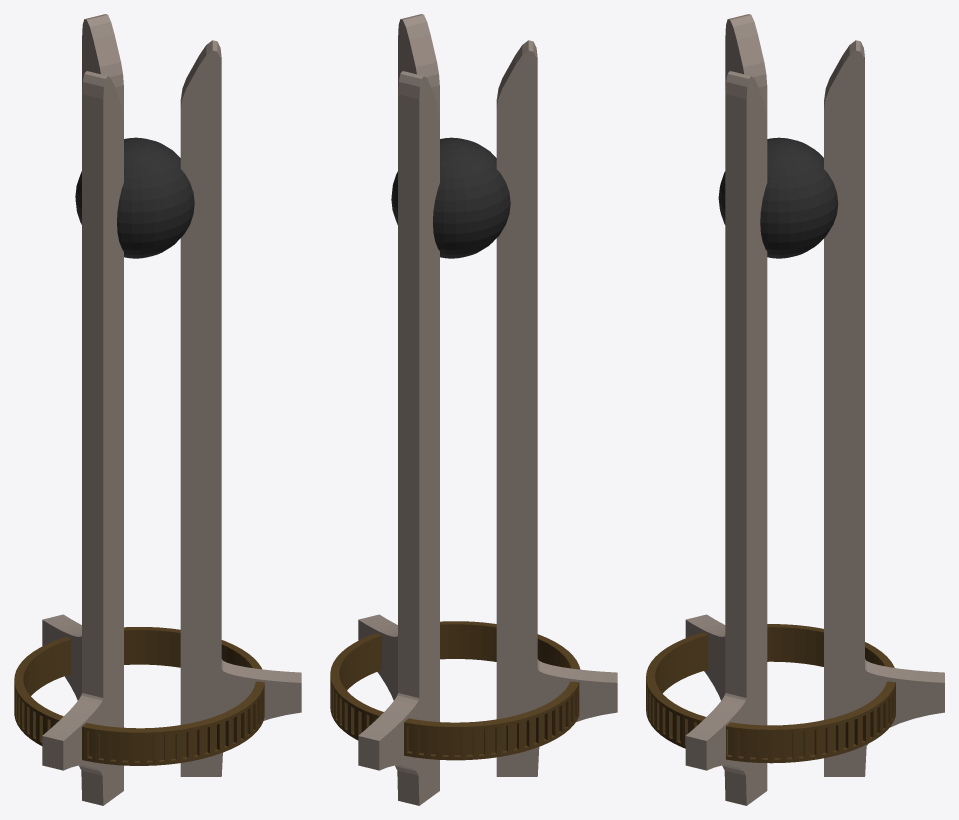
Rendered from building-statue.fbx.
The picture shows the model from 3 angles, left to right: view 1: azimuth 30°, elevation 25°; view 2: azimuth 150°, elevation 25°; view 3: azimuth 270°, elevation 25°; orthographic projection.
Visible parts, largest first — view 1: Cube.002, Cube.001, Plane, Sphere, Cube; view 2: Cube.001, Cube, Plane, Sphere, Cube.002; view 3: Cube.002, Cube, Plane, Sphere, Cube.001.
Part boxes in pixels (x1=…): Cube.002: x1=180, y1=40, x2=301, y2=776; Cube.001: x1=42, y1=71, x2=123, y2=805; Plane: x1=14, y1=627, x2=264, y2=765; Sphere: x1=75, y1=137, x2=194, y2=258; Cube: x1=42, y1=14, x2=123, y2=700; Cube.001: x1=496, y1=40, x2=617, y2=776; Cube: x1=358, y1=71, x2=439, y2=805; Plane: x1=330, y1=621, x2=580, y2=760; Sphere: x1=391, y1=137, x2=510, y2=258; Cube.002: x1=358, y1=14, x2=439, y2=700; Cube.002: x1=685, y1=71, x2=767, y2=805; Cube: x1=824, y1=40, x2=944, y2=776; Plane: x1=646, y1=624, x2=895, y2=763; Sphere: x1=718, y1=137, x2=838, y2=258; Cube.001: x1=685, y1=14, x2=767, y2=700.
Bounding box in the file's own units: 1829 × 4893 × 1825.
